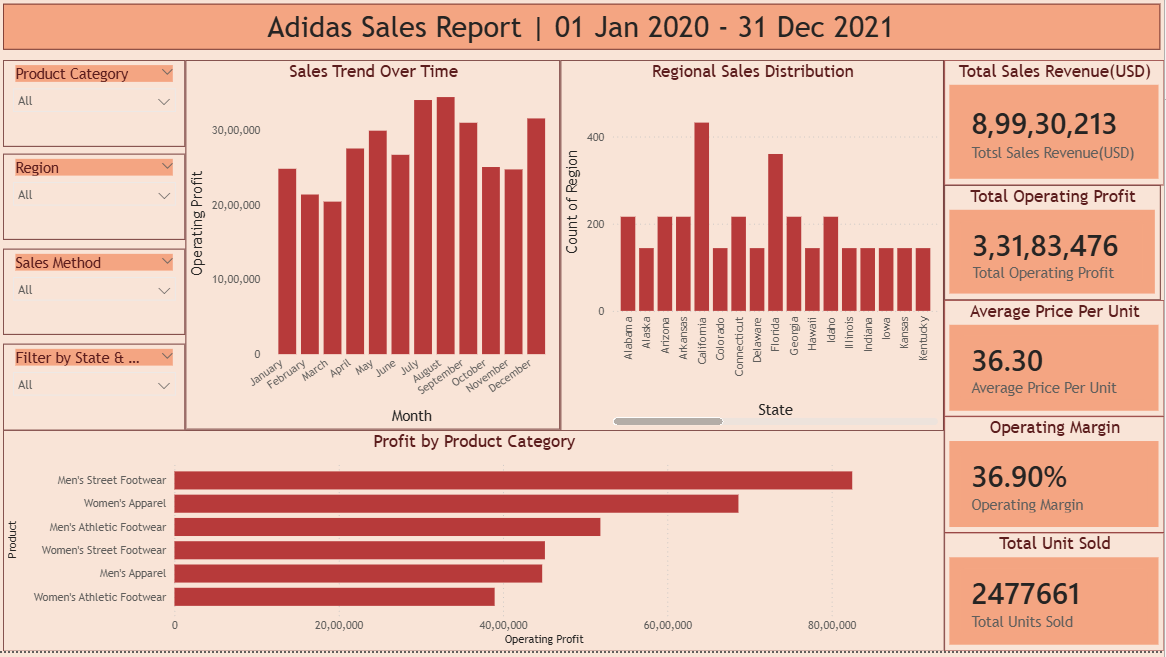

This screenshot's page, from the dashboard's own definition file:
{"tool":"powerbi","page":{"name":"Adidas Sales Analytics 1","canvas":[1280,720],"ordinal":0},"visuals":[{"type":"cardVisual","title":"Total Sales Revenue(USD)","fields":{"Data":["Table 1 (Sheet1).Totsl Sales Revenue(USD)"]},"box":[1038.8,71.4,241.5,137.2],"z":0},{"type":"cardVisual","title":"Total Unit Sold","fields":{"Data":["Table 1 (Sheet1).Total Units Sold"]},"box":[1038.8,590.1,241.5,130.4],"z":1000},{"type":"cardVisual","title":"Total Operating Profit","fields":{"Data":["Table 1 (Sheet1).Total Operating Profit"]},"box":[1038.8,208.6,237.4,126.2],"z":2000},{"type":"cardVisual","title":"Average Price Per Unit","fields":{"Data":["Table 1 (Sheet1).Average Price Per Unit"]},"box":[1038.8,334.8,241.5,127.6],"z":3000},{"type":"cardVisual","title":"Operating Margin","fields":{"Data":["Table 1 (Sheet1).Operating Margin %"]},"box":[1038.8,462.4,241.5,127.6],"z":4000},{"type":"columnChart","title":"Sales Trend Over Time","fields":{"Category":["Table 1 (Sheet1).Invoice Date.Variation.Date Hierarchy.Month"],"Y":["Sum(Table 1 (Sheet1).Operating Profit)"]},"box":[205.7,71.4,411.4,405.7],"z":5000},{"type":"columnChart","title":"Regional Sales Distribution","fields":{"Category":["Table 1 (Sheet1).State","Table 1 (Sheet1).City"],"Y":["CountNonNull(Table 1 (Sheet1).Region)"]},"box":[617.5,70.9,420.7,407.2],"z":6000},{"type":"clusteredBarChart","title":"Profit by Product Category","fields":{"Category":["Table 1 (Sheet1).Product"],"Y":["Sum(Table 1 (Sheet1).Operating Profit)"]},"box":[5.5,477.5,1033.3,242.9],"z":7000},{"type":"slicer","fields":{"Values":["Table 1 (Sheet1).Region"]},"box":[5.5,174.3,200.3,94.7],"z":8000},{"type":"slicer","fields":{"Values":["Table 1 (Sheet1).Product"]},"box":[5.5,71.4,200,95],"z":9000},{"type":"slicer","fields":{"Values":["Table 1 (Sheet1).Sales Method"]},"box":[5.5,278.6,200.3,94.7],"z":10000},{"type":"slicer","fields":{"Values":["Table 1 (Sheet1).State","Table 1 (Sheet1).City"]},"box":[5.5,382.8,200,95],"z":11000},{"type":"card","fields":{"Values":["Table 1 (Sheet1).Dashboard Title"]},"box":[5.5,9.6,1270,50],"z":12000}]}

Visuals, with their boxes in screenshot pixels (x1, y1, x2, y2), scaled from the page's 1280x720 canvas onto the 1166x657 screenshot:
"Total Sales Revenue(USD)" cardVisual: <region>946, 65, 1165, 190</region>
"Total Unit Sold" cardVisual: <region>946, 538, 1165, 656</region>
"Total Operating Profit" cardVisual: <region>946, 190, 1163, 306</region>
"Average Price Per Unit" cardVisual: <region>946, 306, 1165, 422</region>
"Operating Margin" cardVisual: <region>946, 422, 1165, 538</region>
"Sales Trend Over Time" columnChart: <region>187, 65, 562, 435</region>
"Regional Sales Distribution" columnChart: <region>563, 65, 946, 436</region>
"Profit by Product Category" clusteredBarChart: <region>5, 436, 946, 656</region>
slicer - Table 1 (Sheet1).Region: <region>5, 159, 187, 245</region>
slicer - Table 1 (Sheet1).Product: <region>5, 65, 187, 152</region>
slicer - Table 1 (Sheet1).Sales Method: <region>5, 254, 187, 341</region>
slicer - Table 1 (Sheet1).State x Table 1 (Sheet1).City: <region>5, 349, 187, 436</region>
card - Table 1 (Sheet1).Dashboard Title: <region>5, 9, 1162, 54</region>
